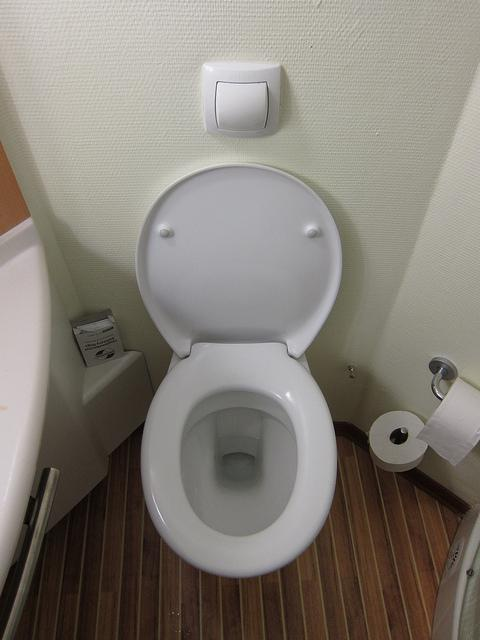Sanitario: (130, 155, 360, 596)
